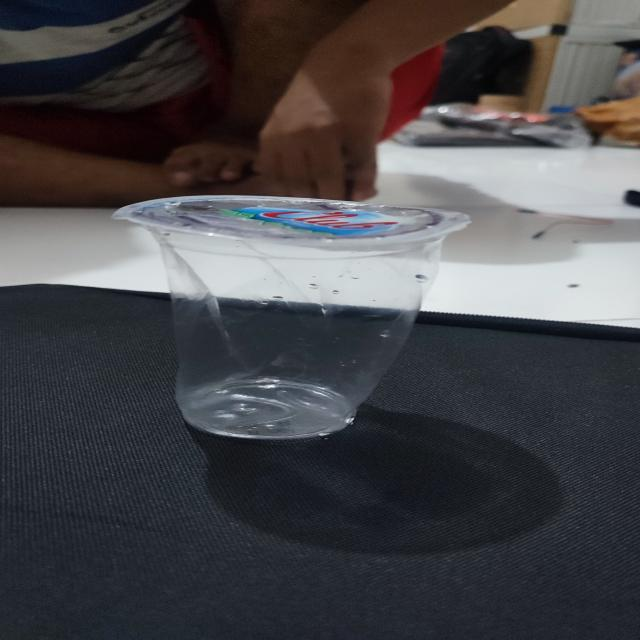air-gelas-rusak: (109, 187, 484, 446)
